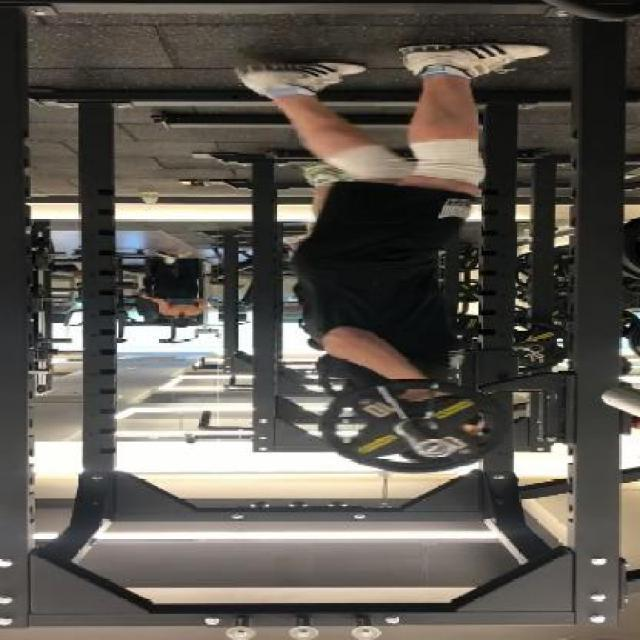Barbell: (415, 438, 454, 459)
